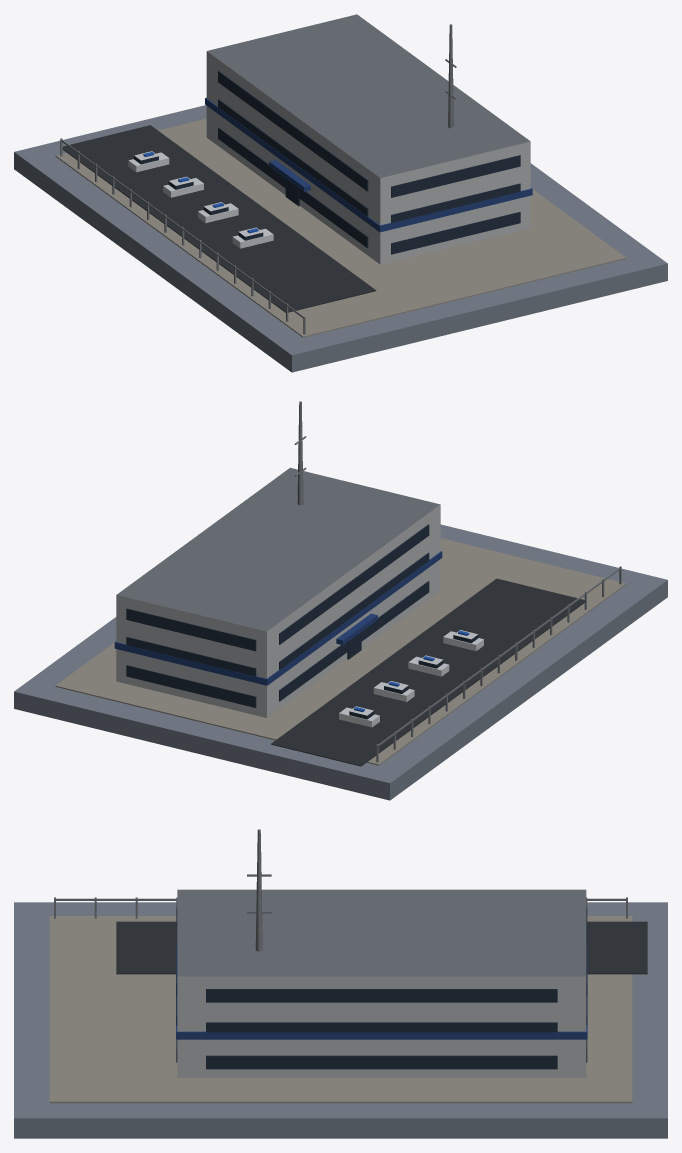
File: police_station.glb
3 renders of one model, top to bottom at view 1: azimuth 30°, elevation 25°; view 2: azimuth 150°, elevation 25°; view 3: azimuth 270°, elevation 25°, orthographic. The views are drawn at different scales.
Visible parts, largest first — view 1: police_station; view 2: police_station; view 3: police_station.
Part boxes in pixels (x1,y1,x2,y2): police_station: (14,14,667,372); police_station: (14,401,667,800); police_station: (14,829,667,1138).
Bounding box in the file's own units: 50 × 26.35 × 64.
